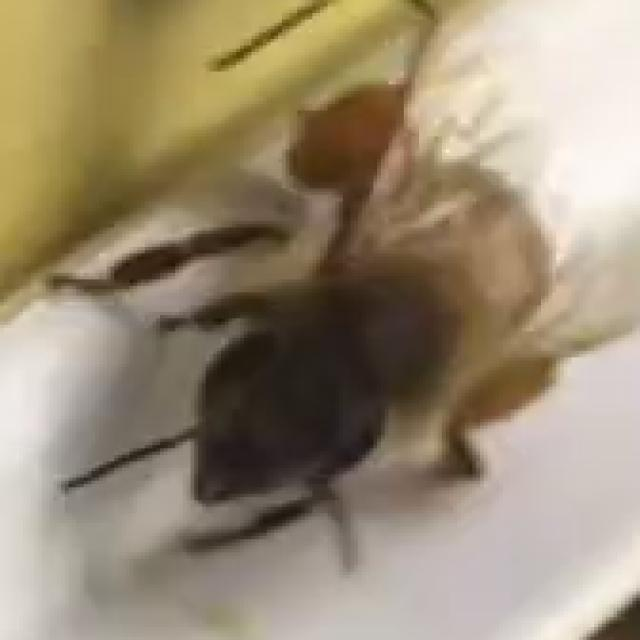honeybee: (7, 29, 612, 588)
